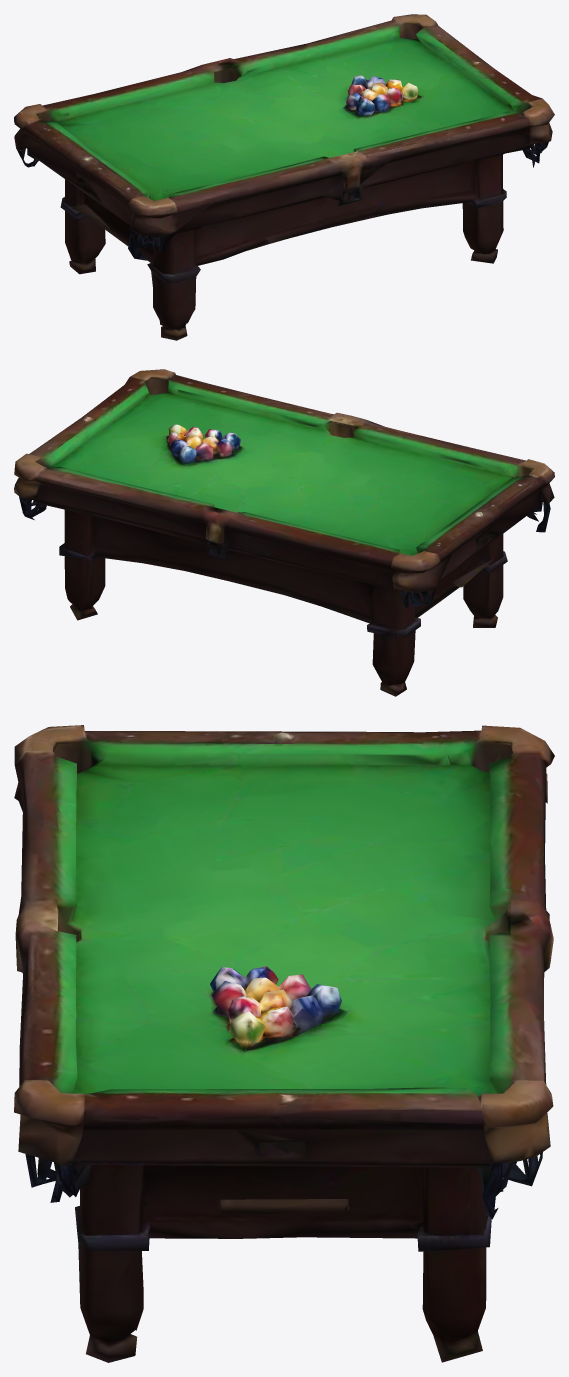
File: pool-table.glb
The picture shows the model from 3 angles, top to bottom: view 1: azimuth 30°, elevation 25°; view 2: azimuth 150°, elevation 25°; view 3: azimuth 270°, elevation 25°; orthographic projection. The views are drawn at different scales.
Parts seen in each view (by area): view 1: tripo_node_541b4bca-189c-4cb7-b6aa-ce49992238c7; view 2: tripo_node_541b4bca-189c-4cb7-b6aa-ce49992238c7; view 3: tripo_node_541b4bca-189c-4cb7-b6aa-ce49992238c7.
Part boxes in pixels (x1,y1,x2,y2): tripo_node_541b4bca-189c-4cb7-b6aa-ce49992238c7: (14,14,554,340); tripo_node_541b4bca-189c-4cb7-b6aa-ce49992238c7: (14,369,554,696); tripo_node_541b4bca-189c-4cb7-b6aa-ce49992238c7: (14,725,554,1362).
Size of the model in its own units: 1 by 0.3638 by 0.5863.
Materials: 1 (1 with a texture image).
